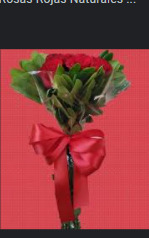RedRose: (36, 48, 120, 111)
